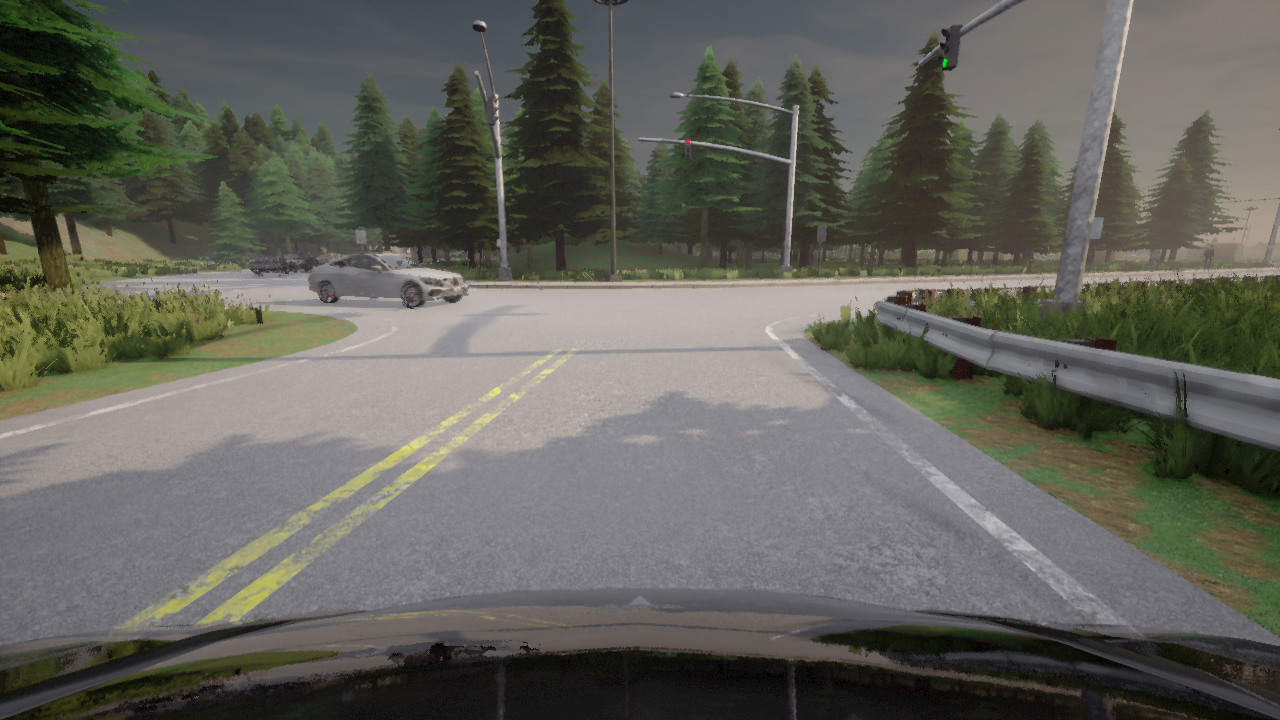cyclist: (0, 588, 1279, 719), (307, 251, 467, 307), (250, 255, 297, 274), (283, 251, 319, 271), (316, 252, 341, 264)
pedestrian: (1018, 243, 1034, 275), (1148, 244, 1161, 271), (1202, 244, 1215, 270), (895, 255, 903, 278), (374, 240, 384, 251), (1087, 251, 1090, 259), (1058, 260, 1059, 264)
